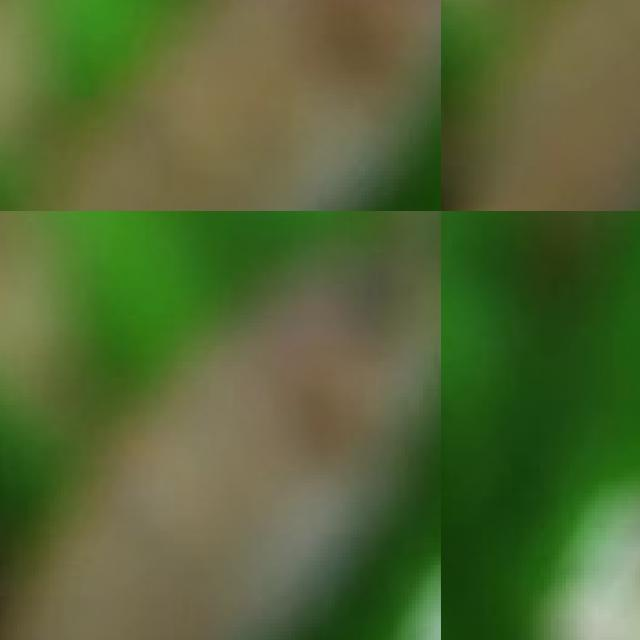fish: (0, 0, 441, 211), (441, 0, 640, 211), (441, 215, 492, 640)
